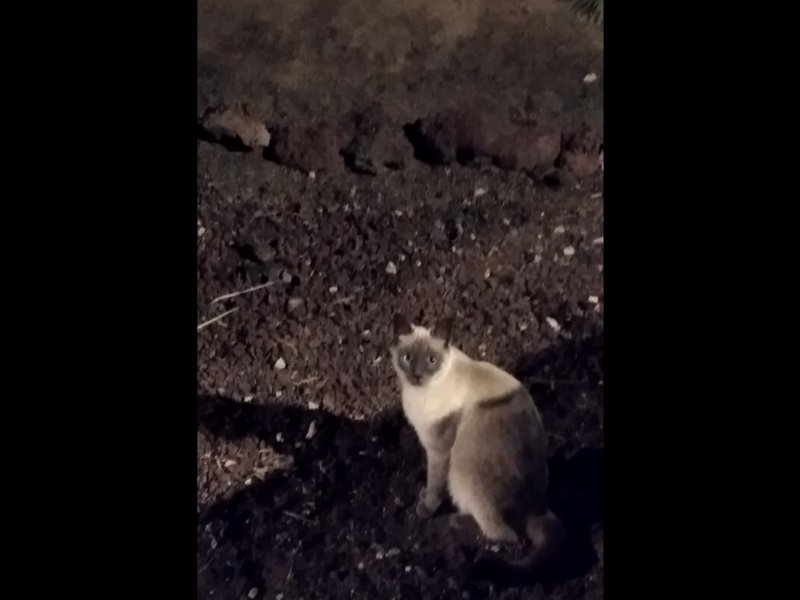cat: (386, 309, 588, 586)
